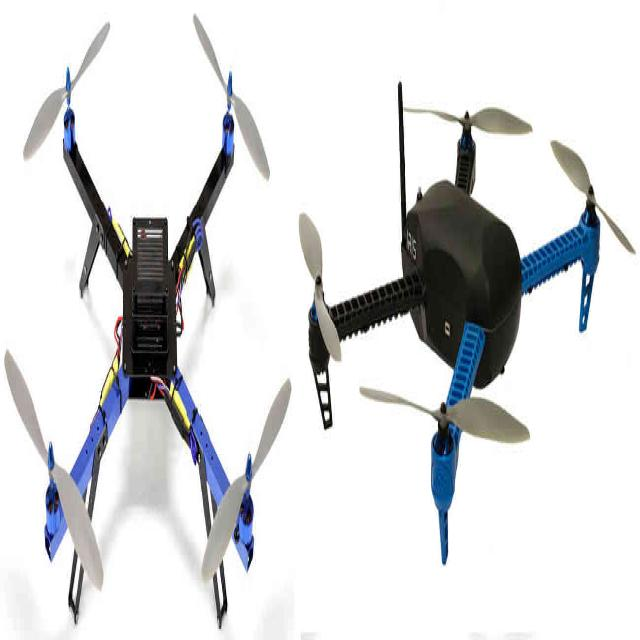drone: (295, 12, 633, 625), (25, 0, 293, 640)
